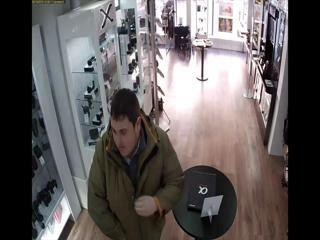Normal: (86, 88, 185, 240)
